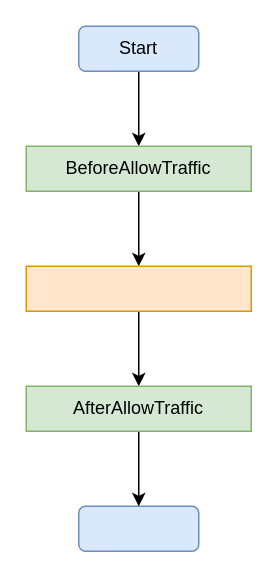
Some shapes in this 278 by 578 pixel diagram are drawn without their labels. Here are the shapes that lost their labels. From the top down, the box of each, then its label:
(25, 265, 251, 311): AllowTrafic
(77, 505, 199, 551): End
